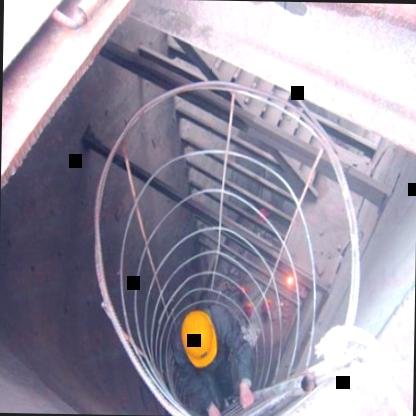helmet: (178, 307, 219, 366)
